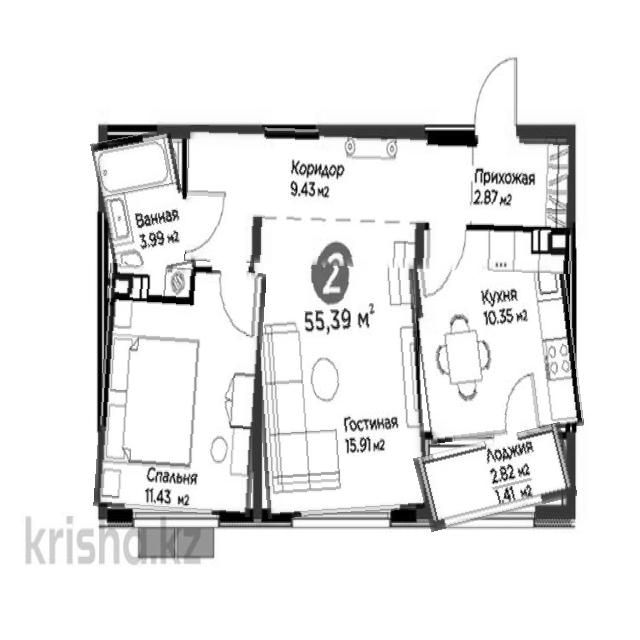balcony: (417, 431, 574, 523)
bathroom: (98, 131, 193, 306)
hallway: (184, 130, 575, 264)
kitchen: (412, 218, 578, 440)
living_room: (253, 220, 425, 516), (93, 270, 264, 516)
